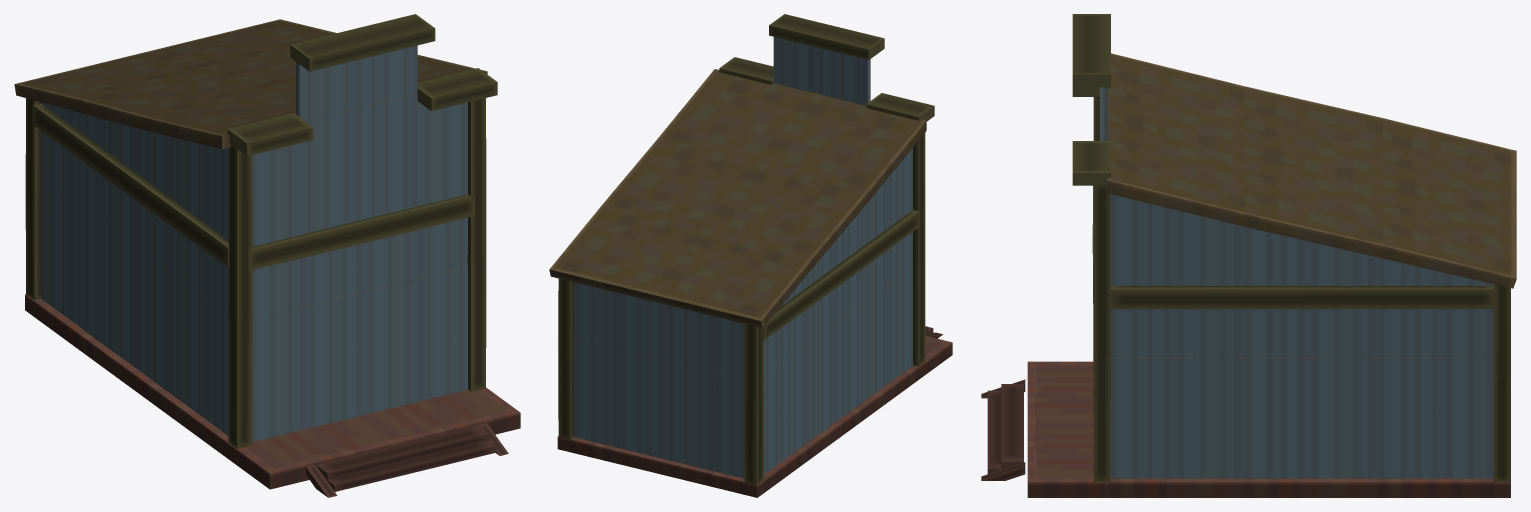
File: house_v4_blank_ncl1_2.fbx
The picture shows the model from 3 angles, left to right: view 1: azimuth 30°, elevation 25°; view 2: azimuth 150°, elevation 25°; view 3: azimuth 270°, elevation 25°; orthographic projection. The views are drawn at different scales.
Visible parts, largest first — view 1: house_v4_blank; view 2: house_v4_blank; view 3: house_v4_blank.
Boxes of the visible parts, left/top/right/bottom form: house_v4_blank: left=14, top=14, right=520, bottom=497; house_v4_blank: left=549, top=14, right=952, bottom=497; house_v4_blank: left=981, top=14, right=1516, bottom=497.
Bounding box in the file's own units: 451 × 647 × 798.
